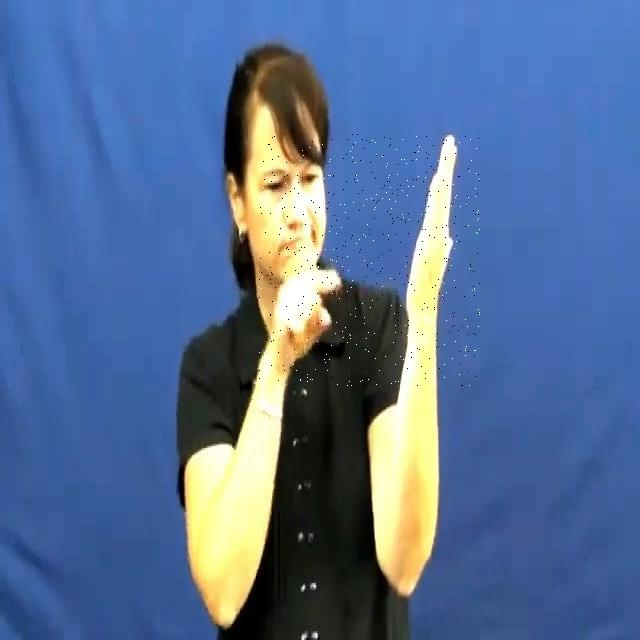menu: (258, 134, 481, 386)
